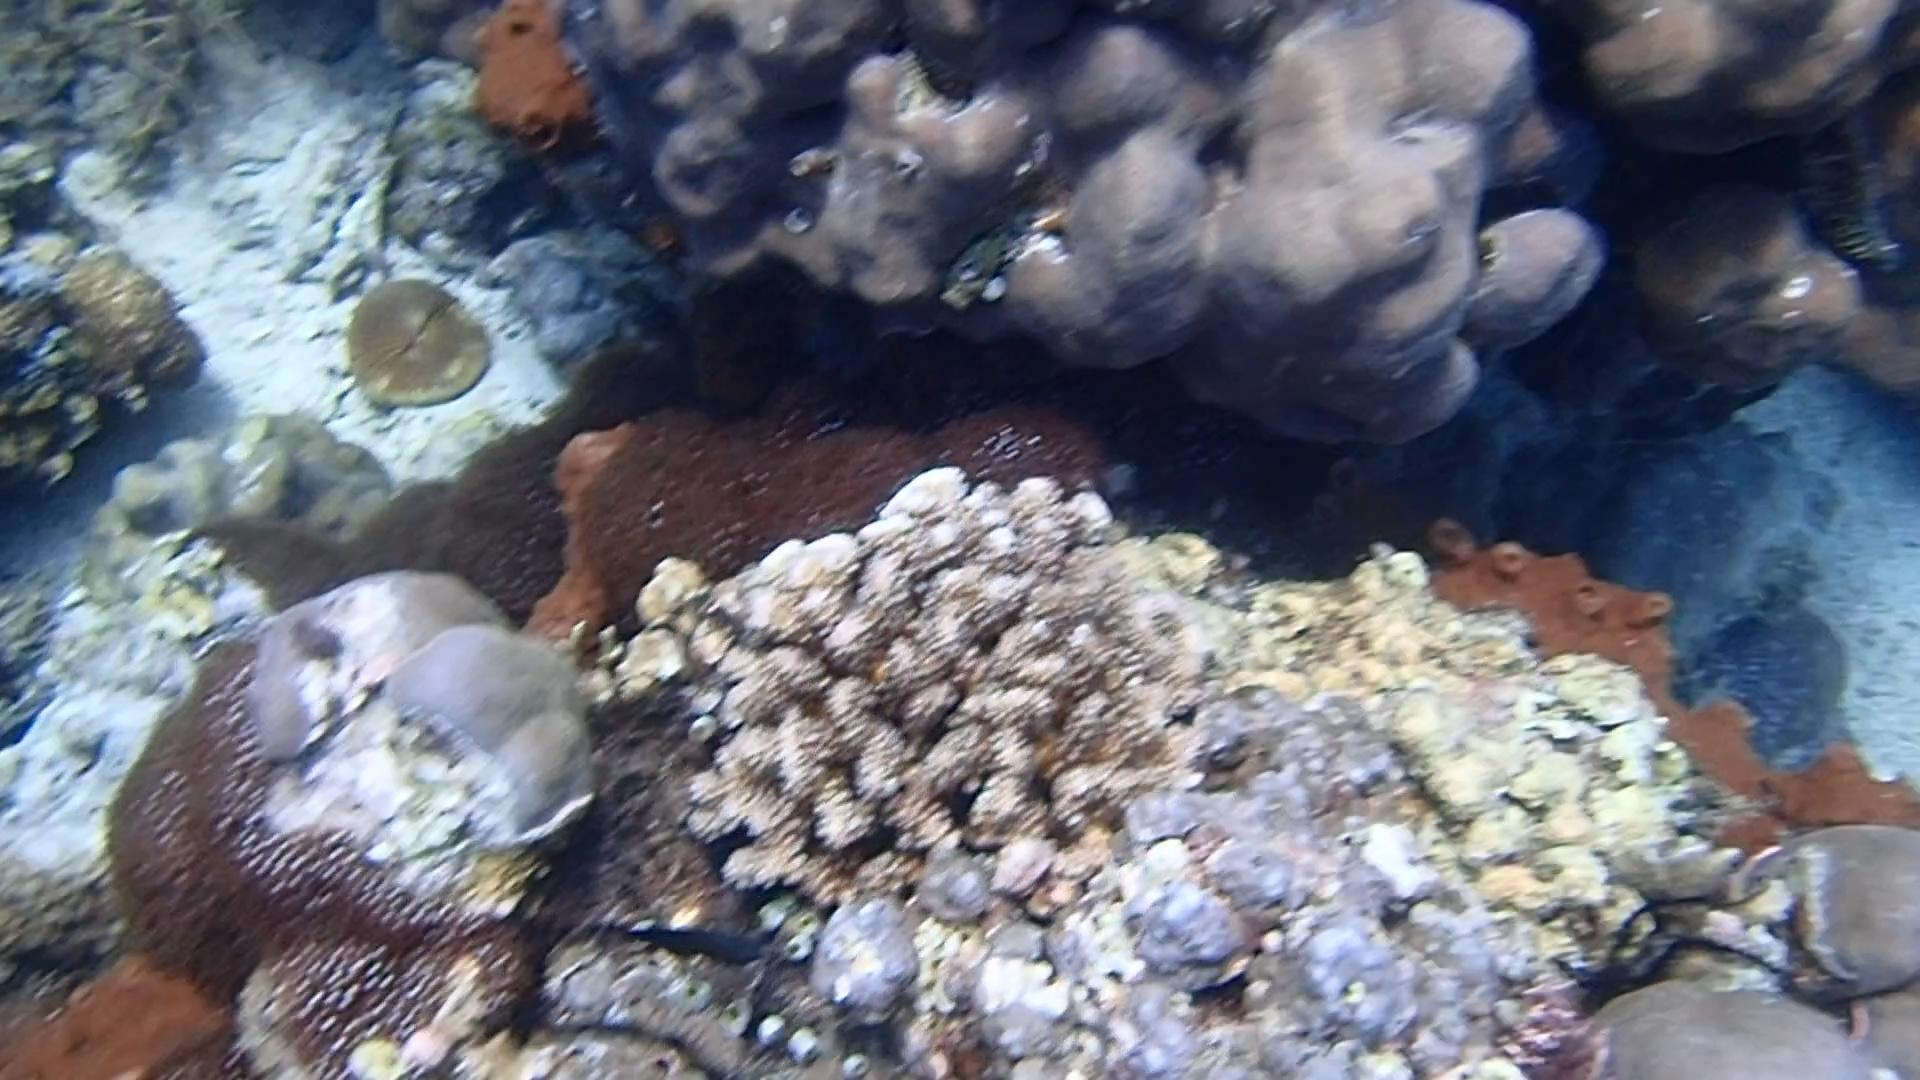Dark Fish: (608, 902, 786, 978)
